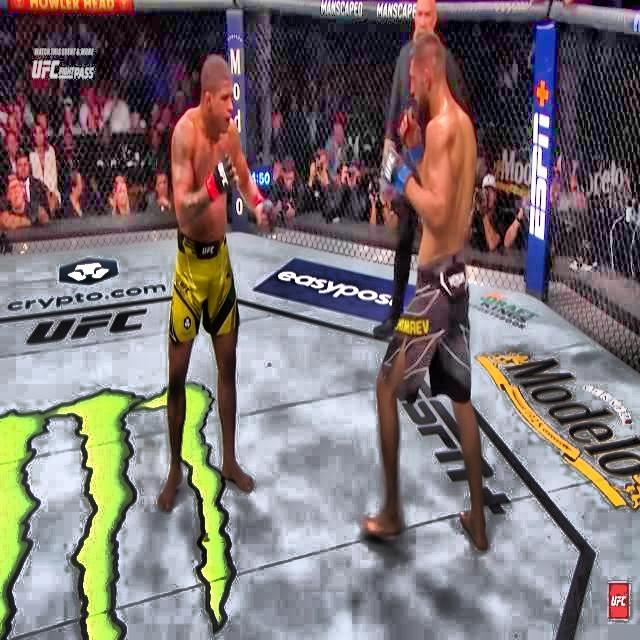kick-knee: (199, 54, 237, 165)
low-guard: (362, 27, 500, 551), (167, 56, 274, 510)
